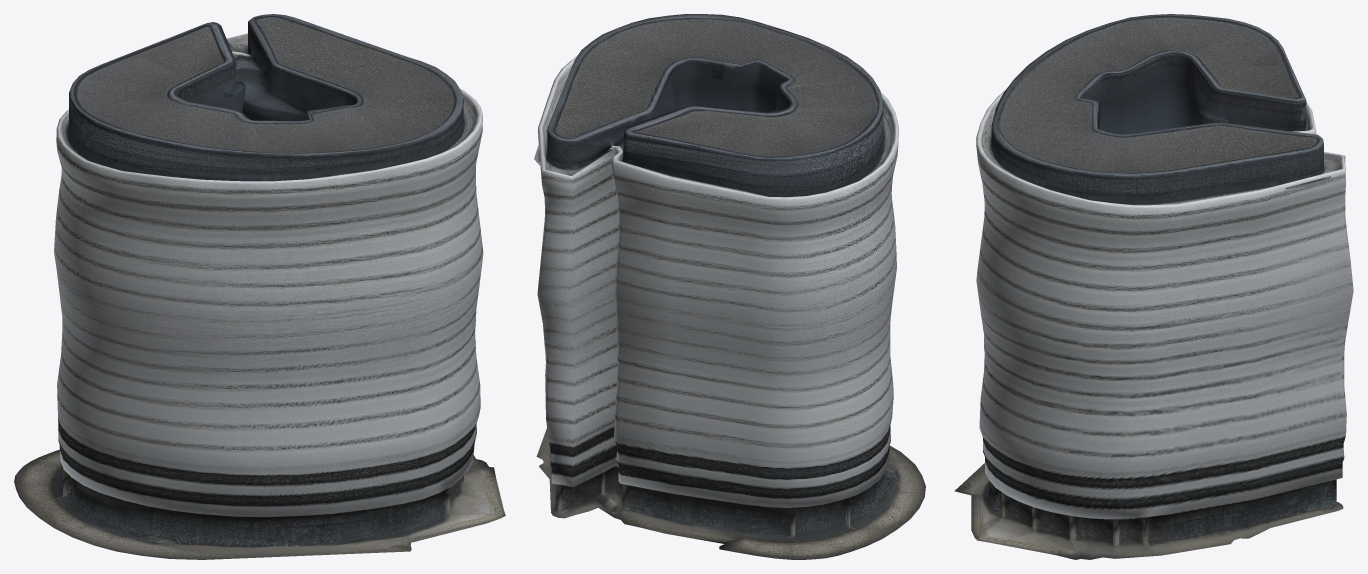
Rendered from office+building+3d+model.glb.
The picture shows the model from 3 angles, left to right: view 1: azimuth 30°, elevation 25°; view 2: azimuth 150°, elevation 25°; view 3: azimuth 270°, elevation 25°; orthographic projection. The views are drawn at different scales.
Parts seen in each view (by area): view 1: tripo_node_fa3b7f0e-3720-44ee-831e-44e09cc3ce8a; view 2: tripo_node_fa3b7f0e-3720-44ee-831e-44e09cc3ce8a; view 3: tripo_node_fa3b7f0e-3720-44ee-831e-44e09cc3ce8a.
Part boxes in pixels (box(x1,y1,x2,y2)): tripo_node_fa3b7f0e-3720-44ee-831e-44e09cc3ce8a: box(14, 14, 505, 559); tripo_node_fa3b7f0e-3720-44ee-831e-44e09cc3ce8a: box(534, 14, 925, 559); tripo_node_fa3b7f0e-3720-44ee-831e-44e09cc3ce8a: box(954, 14, 1353, 559).
Size of the model in its own units: 0.998 by 0.9746 by 0.9199.
1 material, 1 textured.
